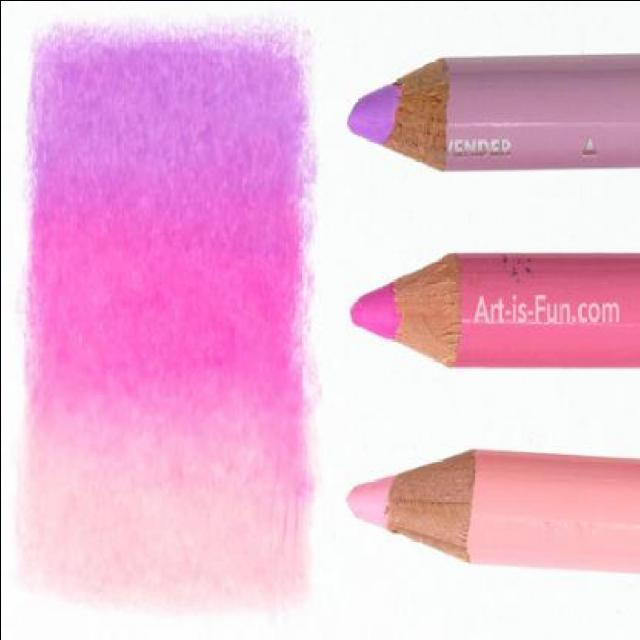pencil: (341, 240, 487, 386), (342, 437, 488, 572), (332, 44, 468, 176)
